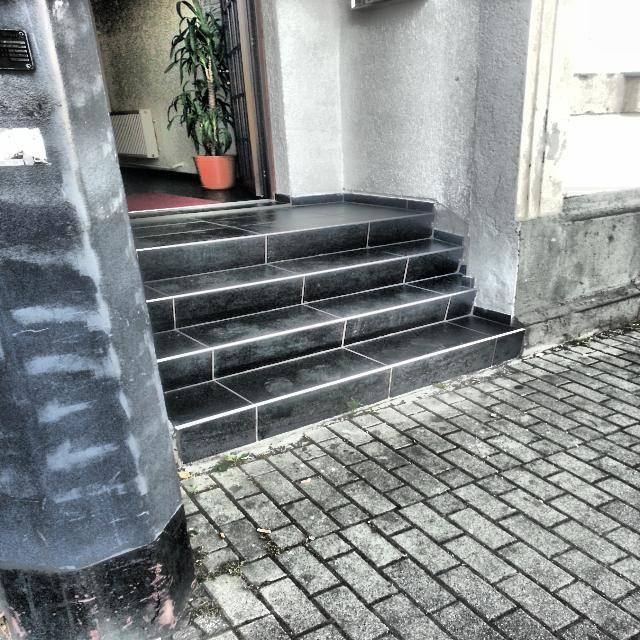escada: (130, 212, 516, 462)
